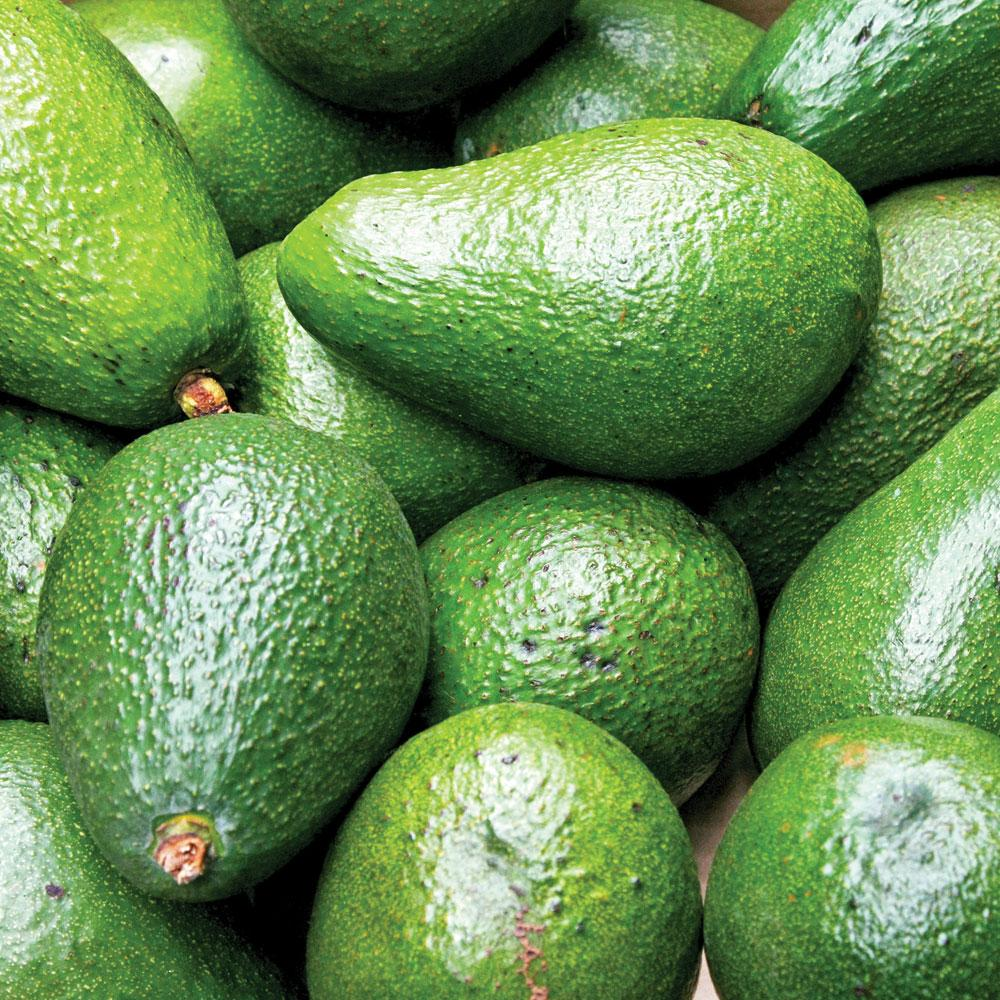unripe: (276, 118, 882, 477), (36, 414, 430, 900), (696, 177, 1000, 593), (301, 704, 704, 1000), (418, 479, 759, 809), (1, 1, 251, 425), (750, 385, 1000, 770), (706, 716, 1000, 999), (1, 720, 295, 1000), (715, 1, 1000, 191), (222, 1, 579, 119)
